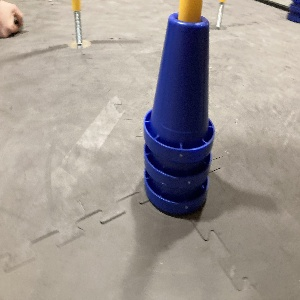Blue_3: (141, 16, 214, 213)
